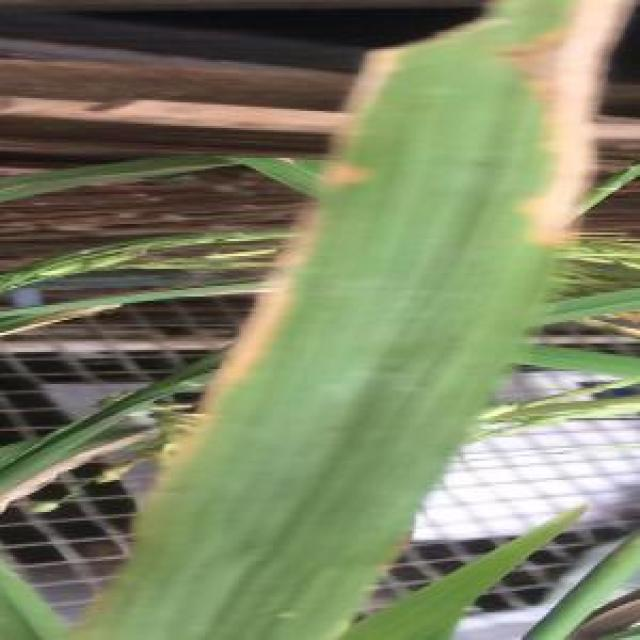Bacterial_Blight: (209, 51, 402, 404), (502, 0, 640, 244)
